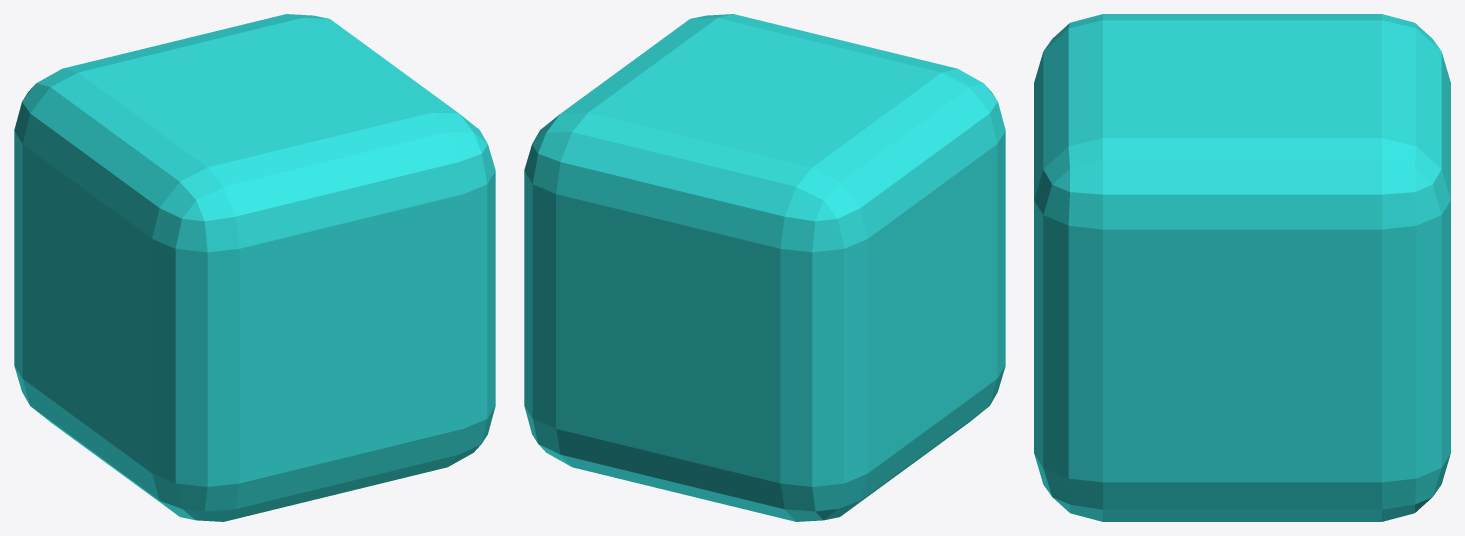
Rendered from IceCube.fbx.
3 renders of one model, left to right at view 1: azimuth 30°, elevation 25°; view 2: azimuth 150°, elevation 25°; view 3: azimuth 270°, elevation 25°, orthographic. The views are drawn at different scales.
Parts seen in each view (by area): view 1: Cube; view 2: Cube; view 3: Cube.
Boxes of the visible parts, bbox=[...] form: Cube: bbox=[14, 14, 495, 521]; Cube: bbox=[524, 14, 1005, 521]; Cube: bbox=[1034, 14, 1450, 521].
Size of the model in its own units: 200 by 200 by 200.
